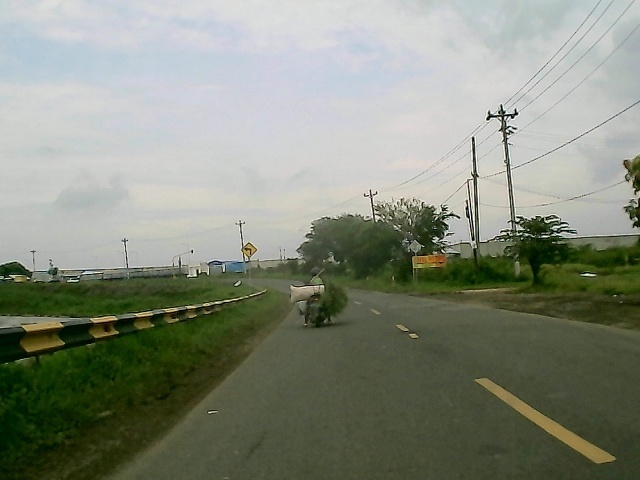Tikungan tajam ke kiri: (240, 242, 259, 262)
